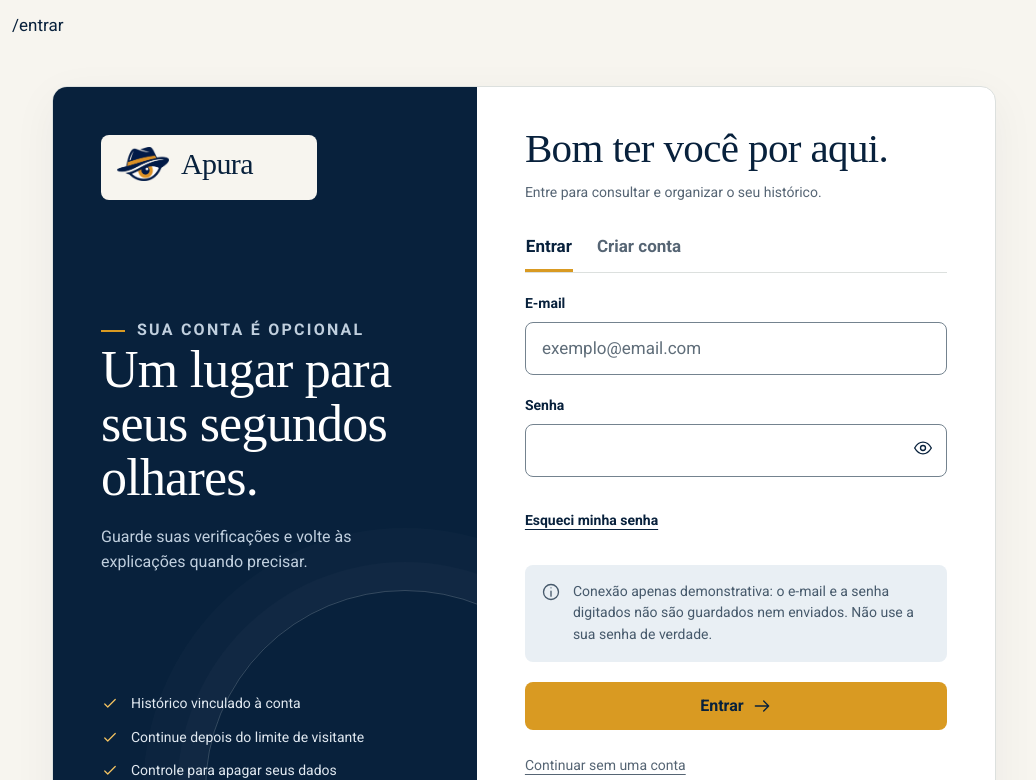
Test case: entrar › entrou sem histórico neste navegador: avisa e volta ao início (e não cai em "Minha conta")
Type "maria@exemplo.com" into the field labelled "E-mail".
click(736, 348); type("maria@exemplo.com")  # box x1=525 y1=322 x2=947 y2=375
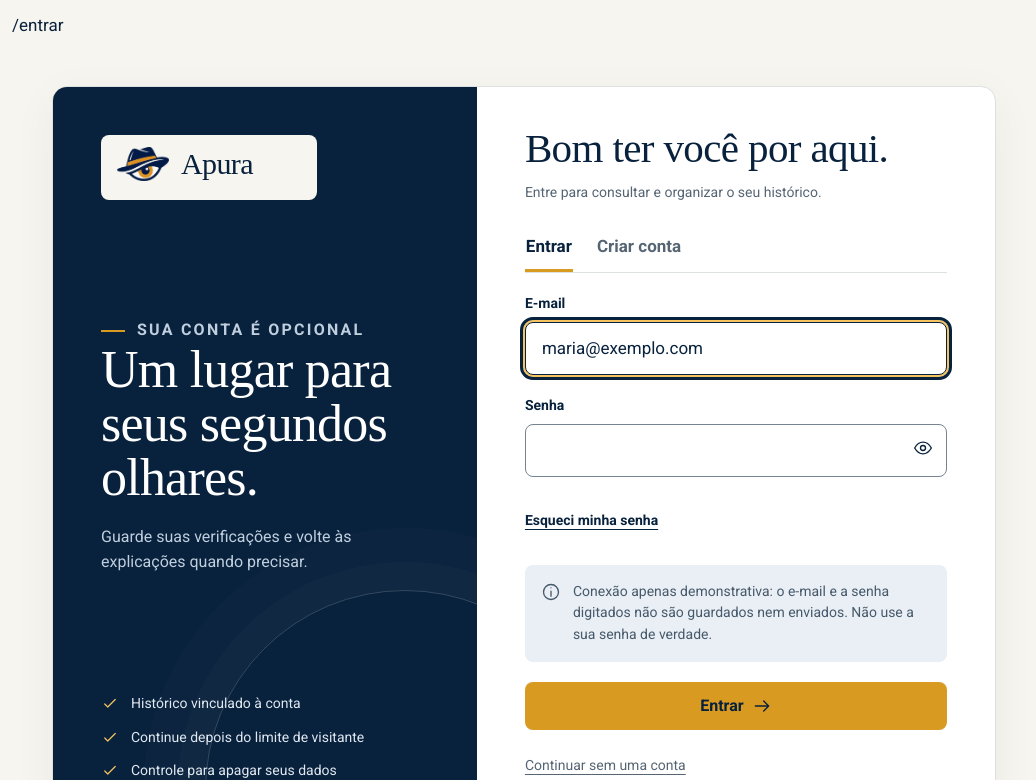
Type "uma-senha-longa-1" into the password field labelled "Senha".
click(736, 451); type("uma-senha-longa-1")  # box x1=525 y1=424 x2=947 y2=477
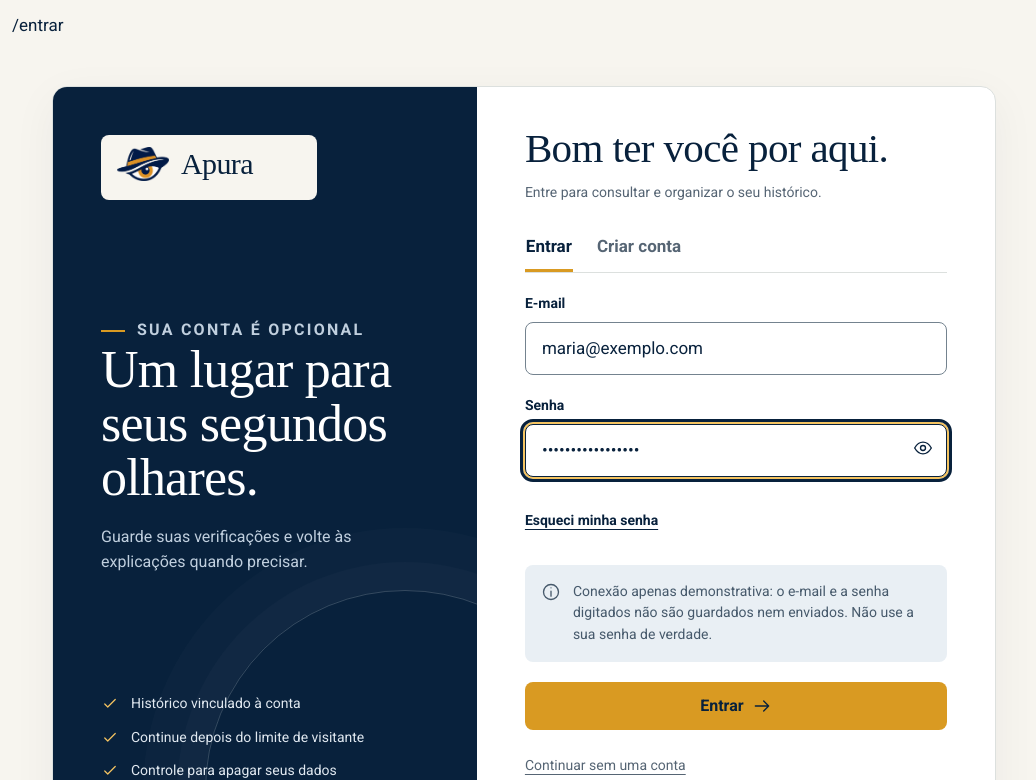
Click the button "Entrar".
click(736, 706)  # box x1=525 y1=682 x2=947 y2=730
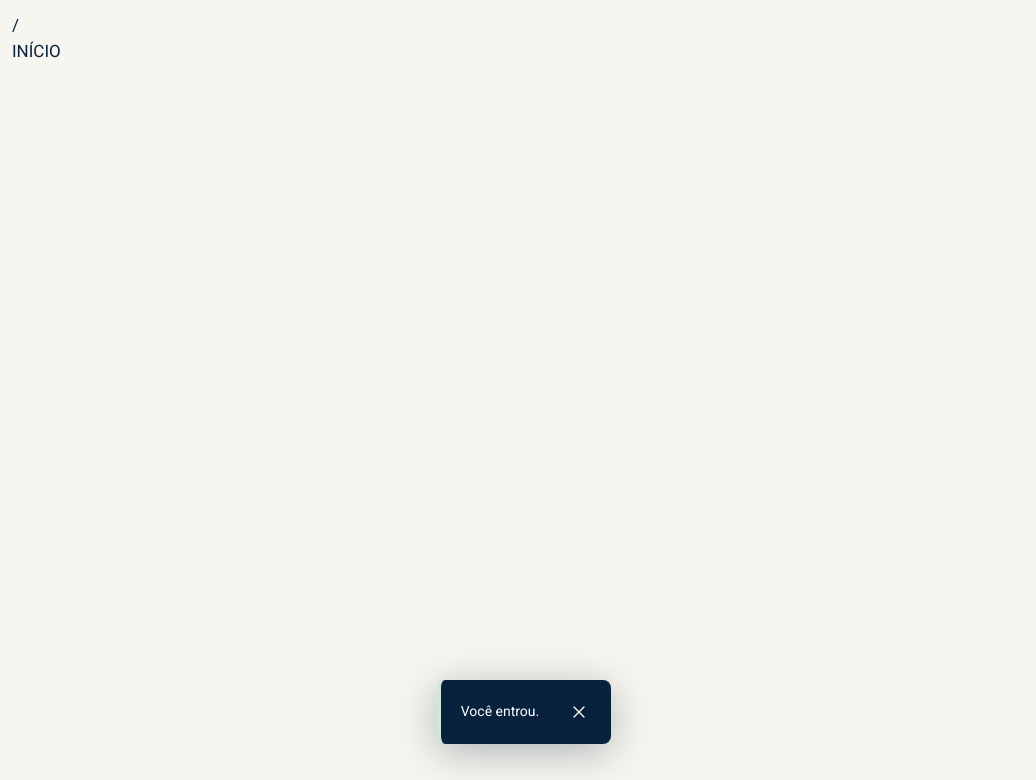
expect the text "Você entrou." is shown: met, box x1=461 y1=703 x2=539 y2=719
expect the text "INÍCIO" is shown: met, box x1=12 y1=41 x2=61 y2=61
